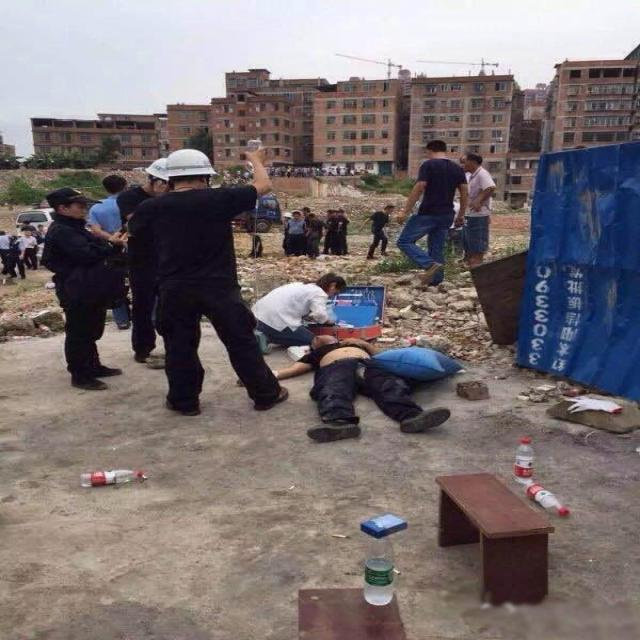10-: (11, 123, 496, 419)
down: (260, 318, 446, 454)
